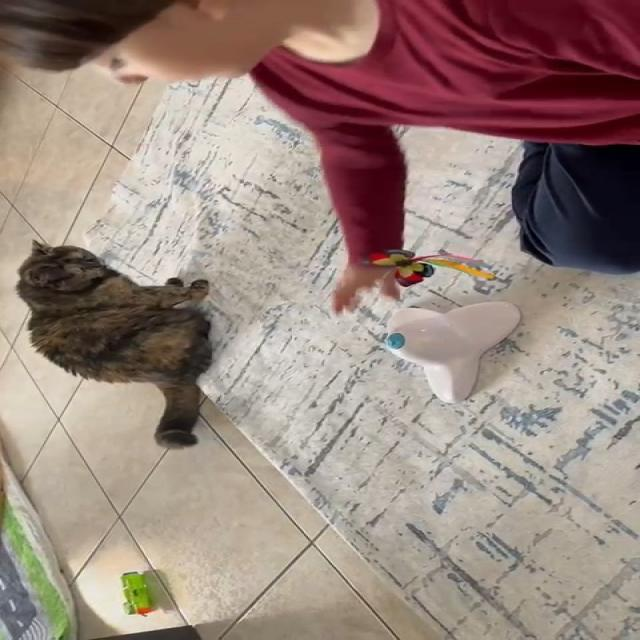authorized: (13, 239, 215, 449)
